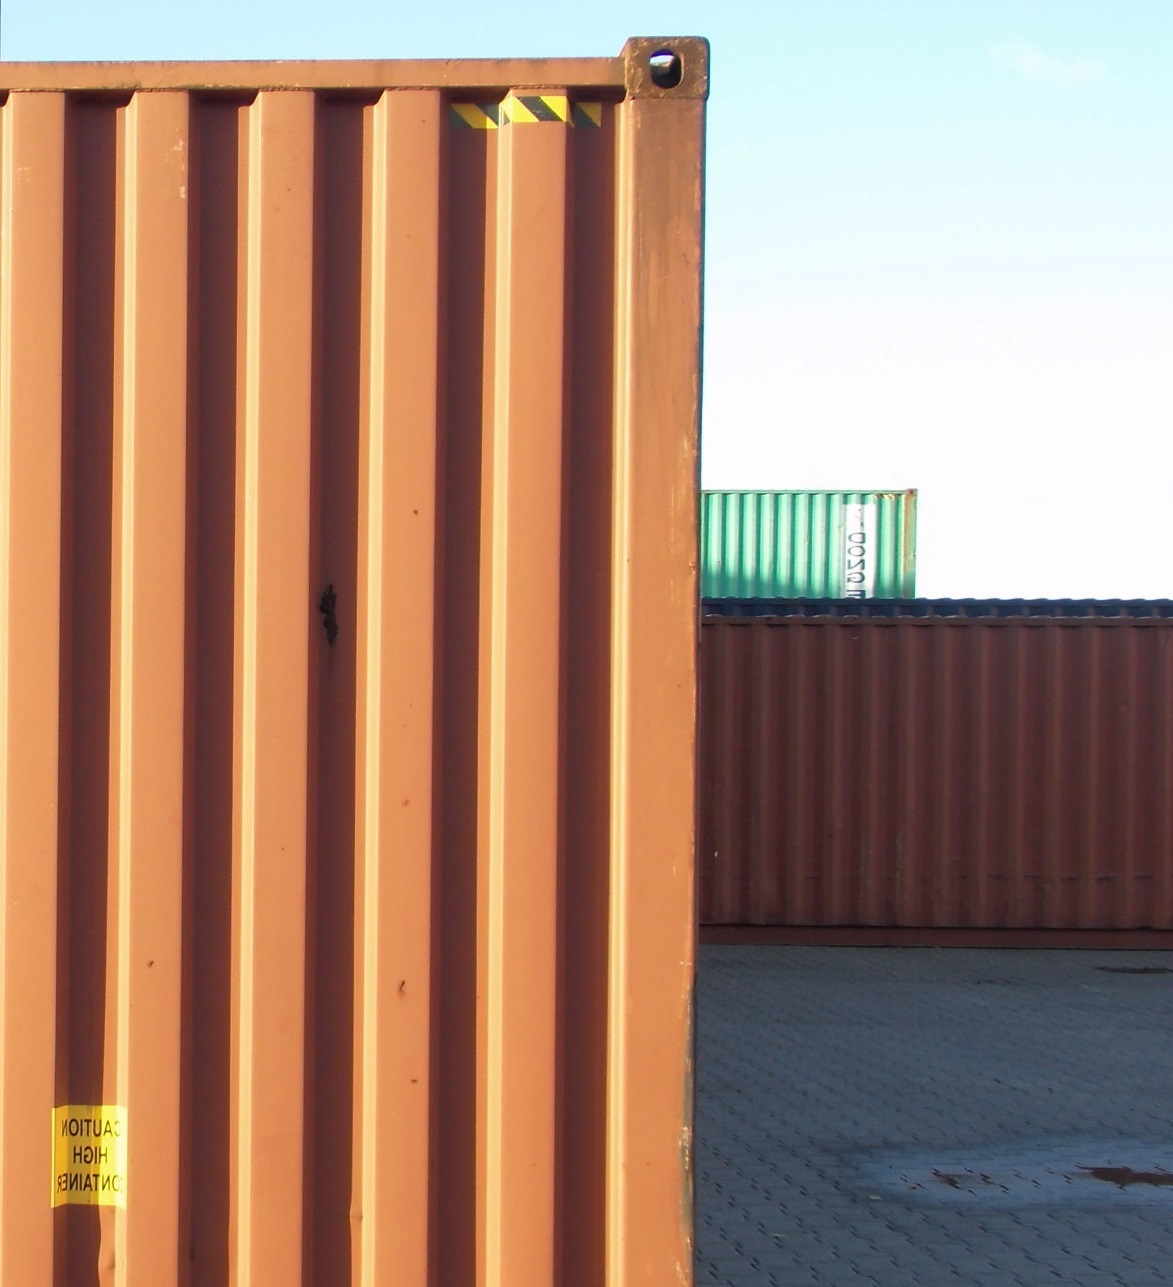container_no_door: (1, 28, 715, 1287)
